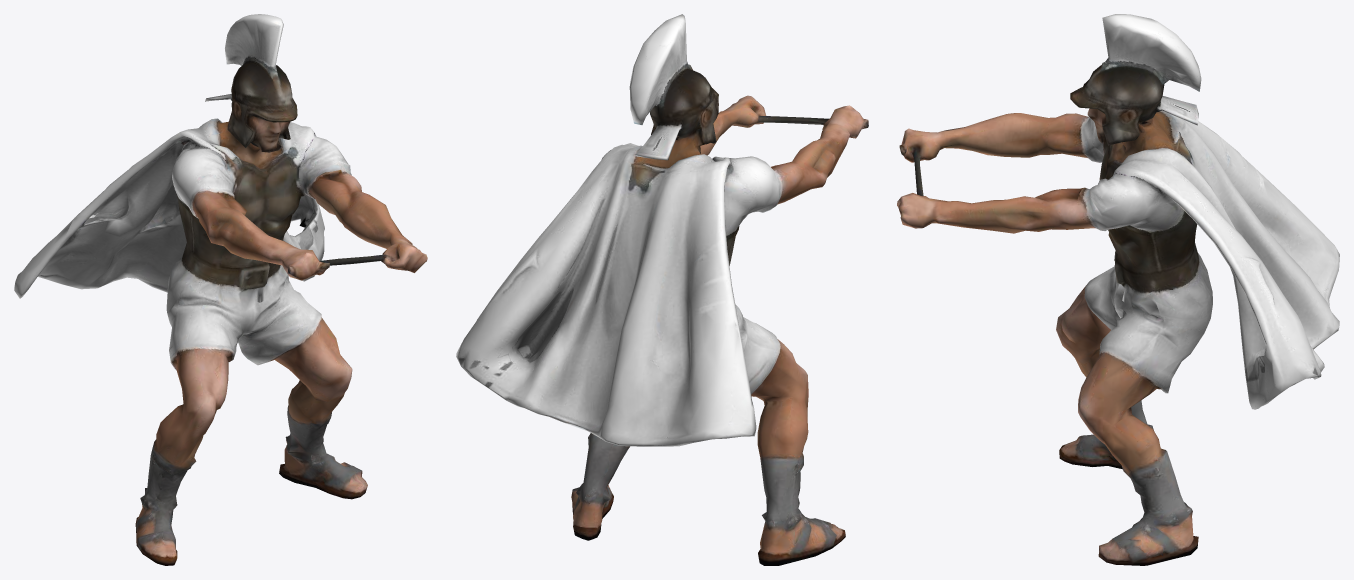
The model's file is charioteer.glb.
The picture shows the model from 3 angles, left to right: view 1: azimuth 30°, elevation 25°; view 2: azimuth 150°, elevation 25°; view 3: azimuth 270°, elevation 25°; orthographic projection. The views are drawn at different scales.
Parts seen in each view (by area): view 1: charioteer; view 2: charioteer; view 3: charioteer.
Part boxes in pixels (x1=…): charioteer: x1=14, y1=14, x2=427, y2=565; charioteer: x1=456, y1=14, x2=868, y2=565; charioteer: x1=897, y1=14, x2=1339, y2=565.
Bounding box in the file's own units: 1.07 × 1.72 × 1.36.
Materials: 1 (1 with a texture image).
